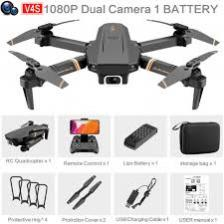drone: (0, 16, 224, 109)
